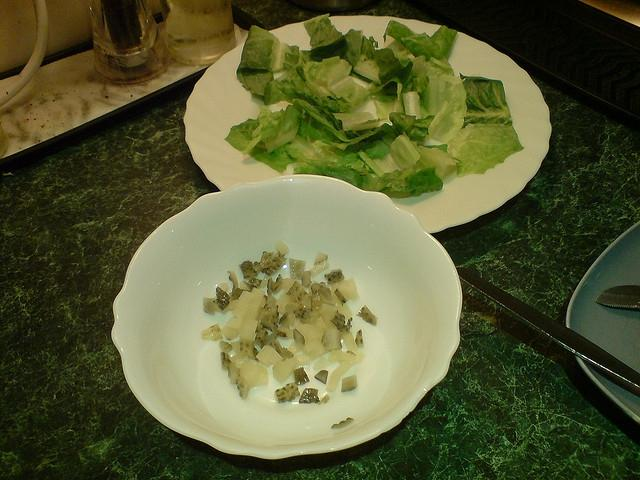lettuce: (264, 59, 354, 114), (237, 25, 300, 102), (447, 123, 524, 177), (304, 56, 369, 107), (242, 104, 302, 155), (358, 132, 421, 176), (365, 48, 413, 102), (401, 26, 458, 66), (322, 122, 401, 150), (311, 140, 375, 174), (309, 29, 363, 68), (421, 76, 467, 120), (413, 146, 458, 184), (390, 166, 443, 194), (303, 13, 343, 50), (353, 36, 381, 85), (283, 134, 324, 162), (410, 55, 454, 78), (374, 96, 404, 126), (358, 140, 391, 161), (322, 108, 345, 131), (410, 76, 430, 94)
